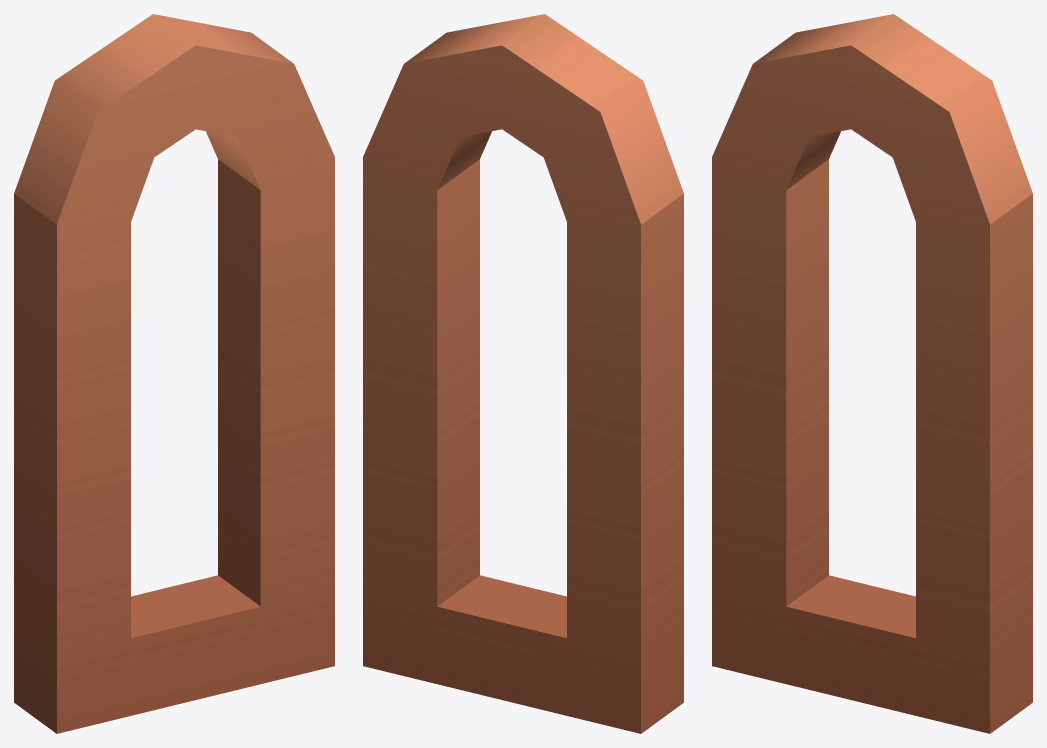
3 renders of one model, left to right at view 1: azimuth 30°, elevation 25°; view 2: azimuth 150°, elevation 25°; view 3: azimuth 330°, elevation 25°, orthographic.
Parts seen in each view (by area): view 1: window-brown-round-narrow; view 2: window-brown-round-narrow; view 3: window-brown-round-narrow.
Part boxes in pixels (<box>): window-brown-round-narrow: <box>14,14,334,733</box>; window-brown-round-narrow: <box>363,14,683,733</box>; window-brown-round-narrow: <box>712,14,1032,733</box>.
Size of the model in its own units: 0.1875 by 0.4219 by 0.05.
1 material, 1 textured.
